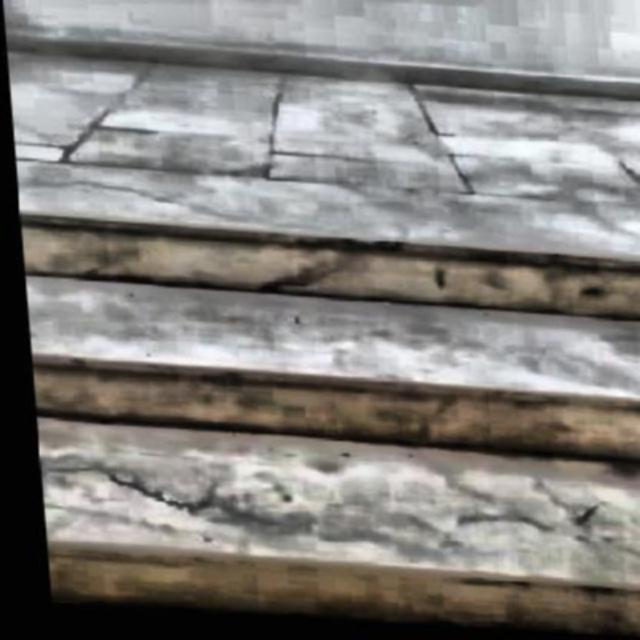stair: (18, 223, 640, 639)
